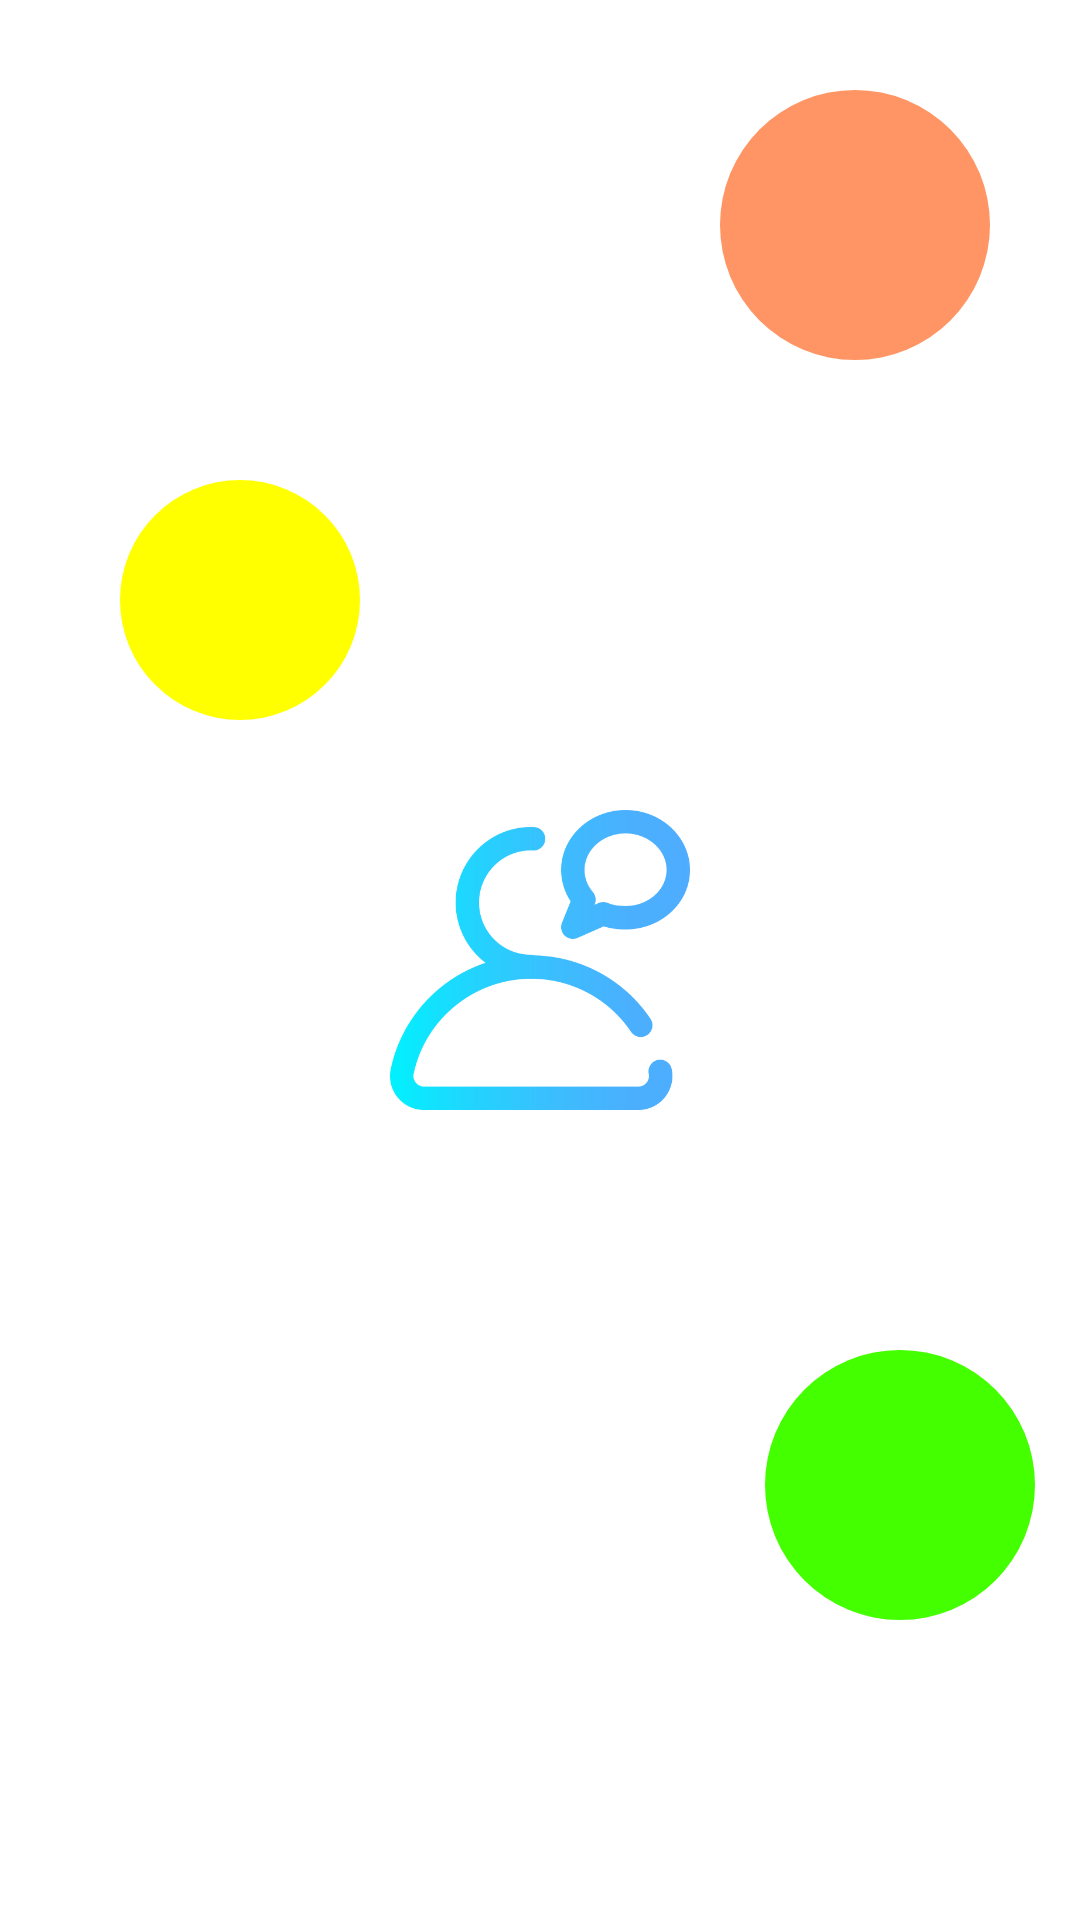

Named icons in this screenshot (1080 x 1920) and their bounding boxes, (x1, y1, x2, y2):
answer: (390, 810, 690, 1110)
